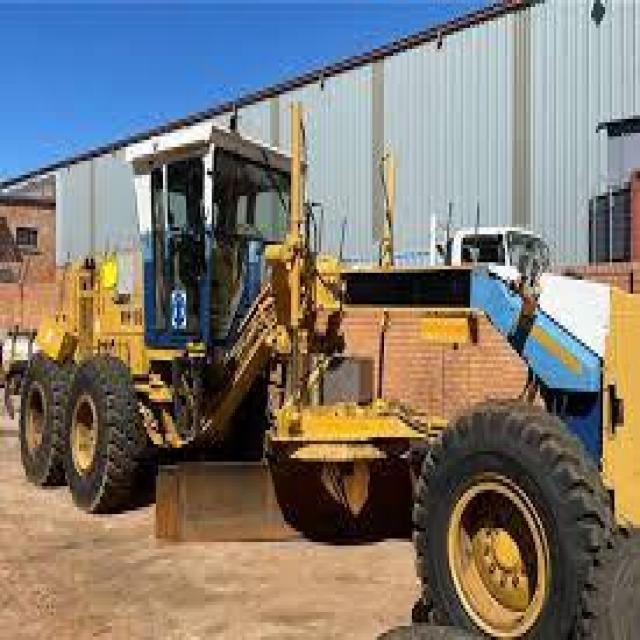Grader: (7, 101, 612, 636)
